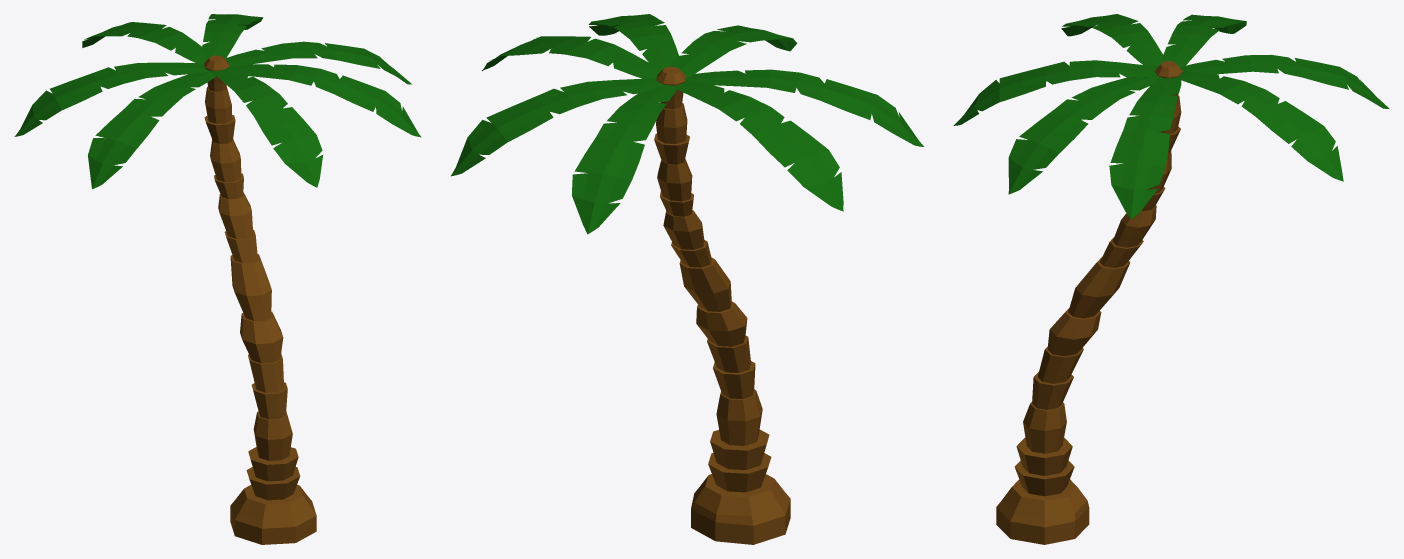
File: Palm_tree_Emiel_Ridder.fbx
The picture shows the model from 3 angles, left to right: view 1: azimuth 30°, elevation 25°; view 2: azimuth 150°, elevation 25°; view 3: azimuth 270°, elevation 25°; orthographic projection. The views are drawn at different scales.
Parts seen in each view (by area): view 1: Plane.001, Cylinder; view 2: Plane.001, Cylinder; view 3: Plane.001, Cylinder.
Boxes of the visible parts, box(x1,y1,x2,y2) form: Plane.001: box(14, 14, 421, 189); Cylinder: box(204, 55, 316, 544); Plane.001: box(451, 14, 923, 234); Cylinder: box(654, 66, 790, 544); Plane.001: box(953, 14, 1389, 219); Cylinder: box(996, 61, 1182, 544).
Bounding box in the file's own units: 794 × 917 × 788.
2 materials, 2 textured.
